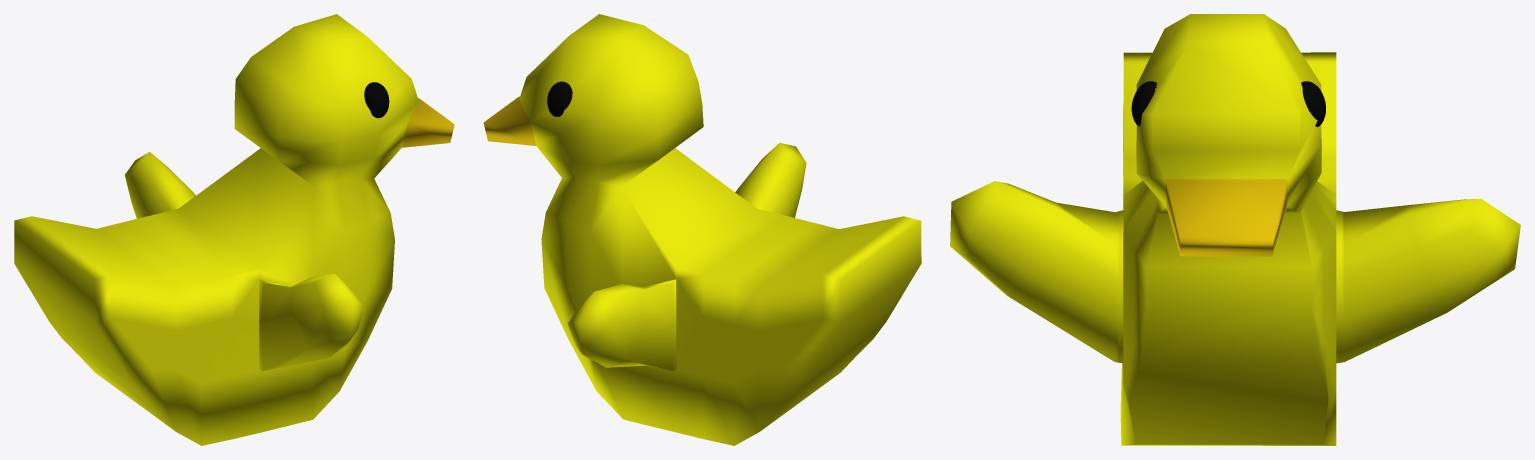
File: CommonBird.fbx
The picture shows the model from 3 angles, left to right: view 1: azimuth 30°, elevation 25°; view 2: azimuth 150°, elevation 25°; view 3: azimuth 270°, elevation 25°; orthographic projection. The views are drawn at different scales.
Parts seen in each view (by area): view 1: pSphere3; view 2: pSphere3; view 3: pSphere3.
Part boxes in pixels (left/top/right/bottom): pSphere3: left=14, top=14, right=454, bottom=445; pSphere3: left=483, top=14, right=921, bottom=445; pSphere3: left=950, top=14, right=1520, bottom=445.
Size of the model in its own units: 2.79 by 2.42 by 2.75.
